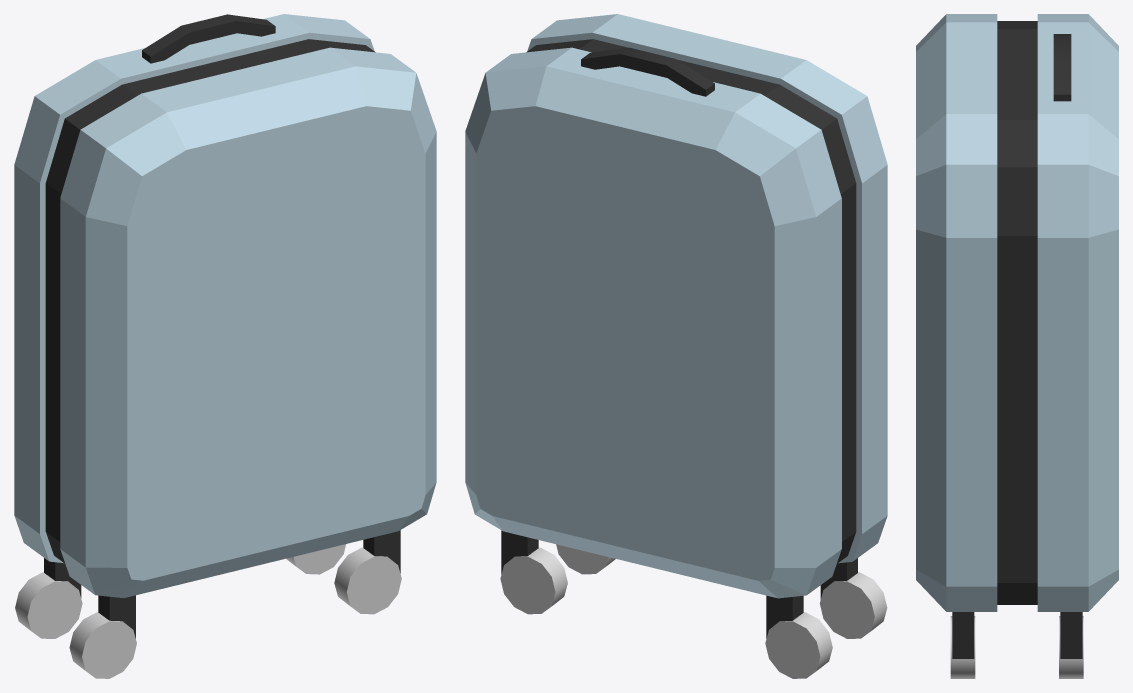
The model's file is Moyenne_Valise_Bleue.fbx.
3 renders of one model, left to right at view 1: azimuth 30°, elevation 25°; view 2: azimuth 150°, elevation 25°; view 3: azimuth 270°, elevation 25°, orthographic.
Parts seen in each view (by area): view 1: Moyenne_Valise_Bleue; view 2: Moyenne_Valise_Bleue; view 3: Moyenne_Valise_Bleue.
Boxes of the visible parts, x1,y1,x2,y2 form: Moyenne_Valise_Bleue: [14, 14, 436, 678]; Moyenne_Valise_Bleue: [465, 14, 887, 678]; Moyenne_Valise_Bleue: [916, 14, 1118, 678].
Size of the model in its own units: 60.18 by 94.03 by 30.13.
Materials: 1 (1 with a texture image).
